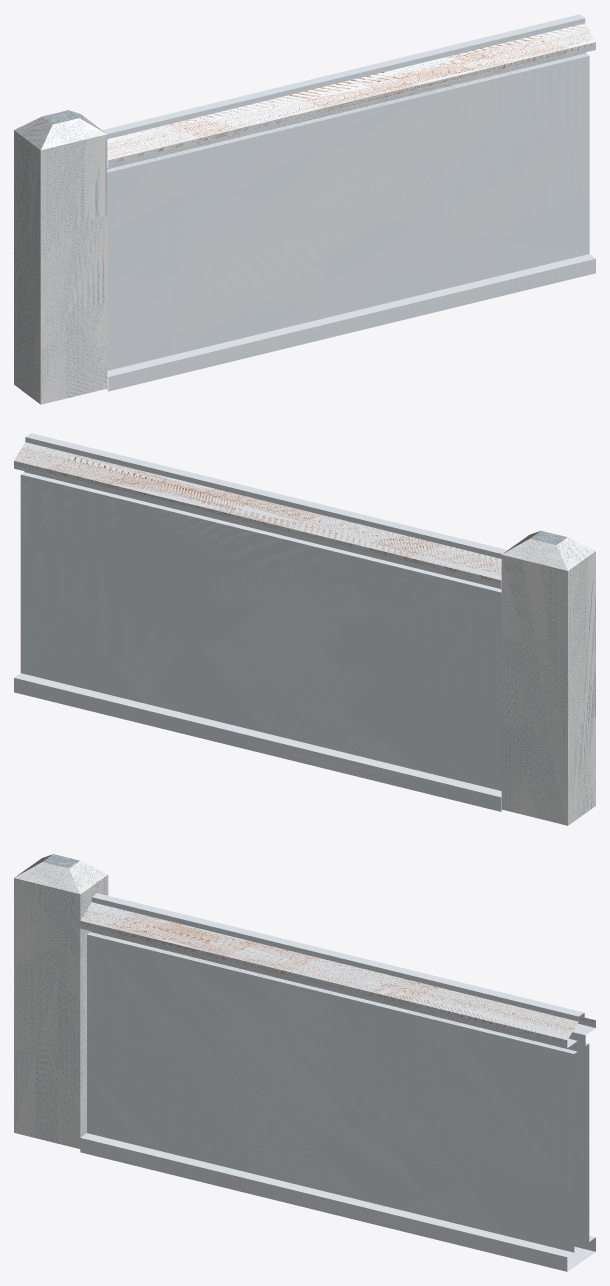
Rendered from OG_Wall.fbx.
The picture shows the model from 3 angles, top to bottom: view 1: azimuth 30°, elevation 25°; view 2: azimuth 150°, elevation 25°; view 3: azimuth 330°, elevation 25°; orthographic projection.
Visible parts, largest first — view 1: Component_92_1, Component_91_1; view 2: Component_92_1, Component_91_1; view 3: Component_92_1, Component_91_1.
Part boxes in pixels (x1,y1,x2,y2): Component_92_1: [102, 14, 595, 391]; Component_91_1: [14, 110, 107, 404]; Component_92_1: [14, 433, 507, 811]; Component_91_1: [501, 530, 595, 825]; Component_92_1: [80, 893, 595, 1271]; Component_91_1: [14, 854, 108, 1148].
Size of the model in its own units: 5.79 by 2.72 by 0.5192.
